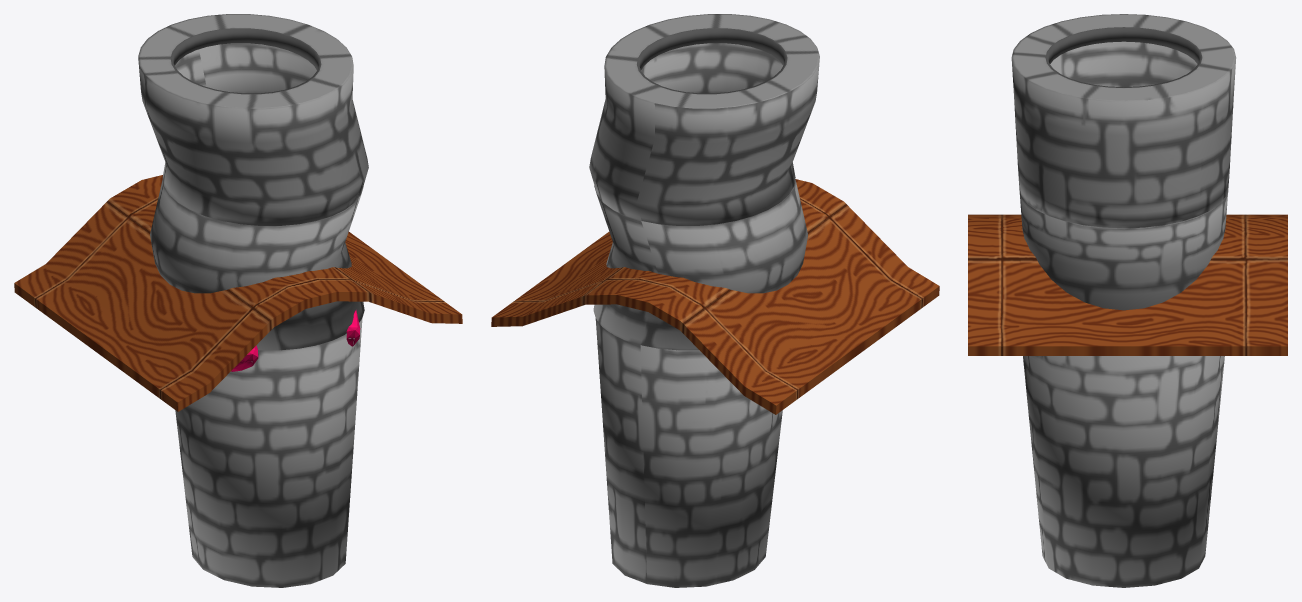
The model's file is Water Well.fbx.
3 renders of one model, left to right at view 1: azimuth 30°, elevation 25°; view 2: azimuth 150°, elevation 25°; view 3: azimuth 270°, elevation 25°, orthographic. The views are drawn at different scales.
Visible parts, largest first — view 1: Well Main, Well Lower, Roof, Well Middle, Gems; view 2: Well Main, Well Lower, Roof, Well Middle; view 3: Well Main, Well Lower, Roof, Well Middle.
Part boxes in pixels (x1=…): Well Main: x1=138, y1=14, x2=368, y2=225; Well Lower: x1=175, y1=302, x2=363, y2=587; Roof: x1=14, y1=175, x2=462, y2=411; Well Middle: x1=150, y1=179, x2=364, y2=350; Gems: x1=231, y1=310, x2=360, y2=371; Well Main: x1=589, y1=14, x2=819, y2=225; Well Lower: x1=595, y1=318, x2=782, y2=587; Roof: x1=491, y1=179, x2=939, y2=414; Well Middle: x1=593, y1=179, x2=807, y2=350; Well Main: x1=1011, y1=14, x2=1236, y2=228; Well Lower: x1=1023, y1=356, x2=1224, y2=587; Roof: x1=968, y1=214, x2=1287, y2=355; Well Middle: x1=1019, y1=189, x2=1228, y2=310.
Size of the model in its own units: 7.17 by 11.97 by 7.12.
